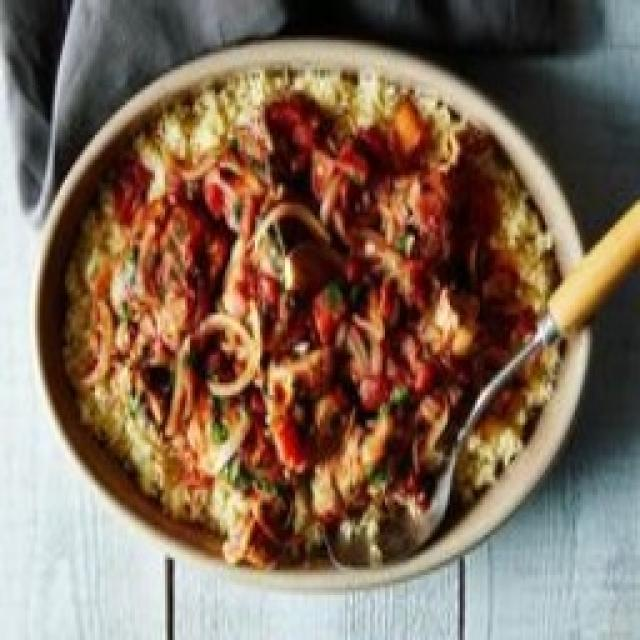Couscous: (65, 71, 558, 569)
